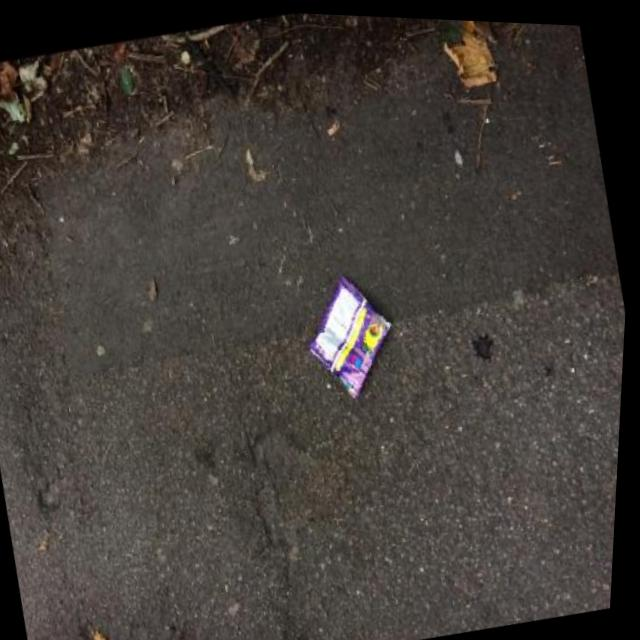plastic: (288, 265, 408, 412)
